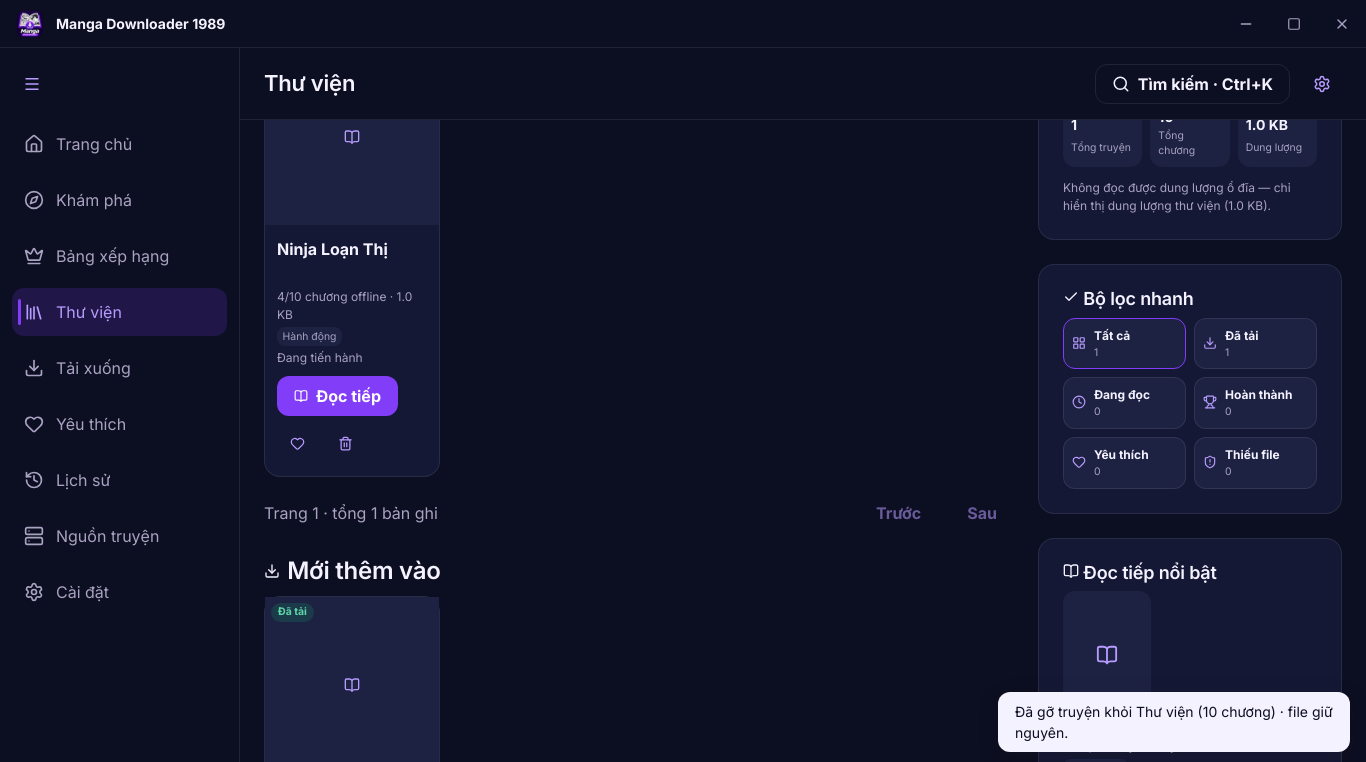
Test case: Xóa truyện khỏi Thư viện — hai chế độ file › chọn xóa file thì gửi deleteFiles=true và không còn hứa giữ file
The width and height of the screenshot is (1366, 762).
(page scrolled)
Click the button named "Xóa Ninja Loạn Thị khỏi Thư viện".
click(345, 444)  # box left=325, top=424, right=365, bottom=464
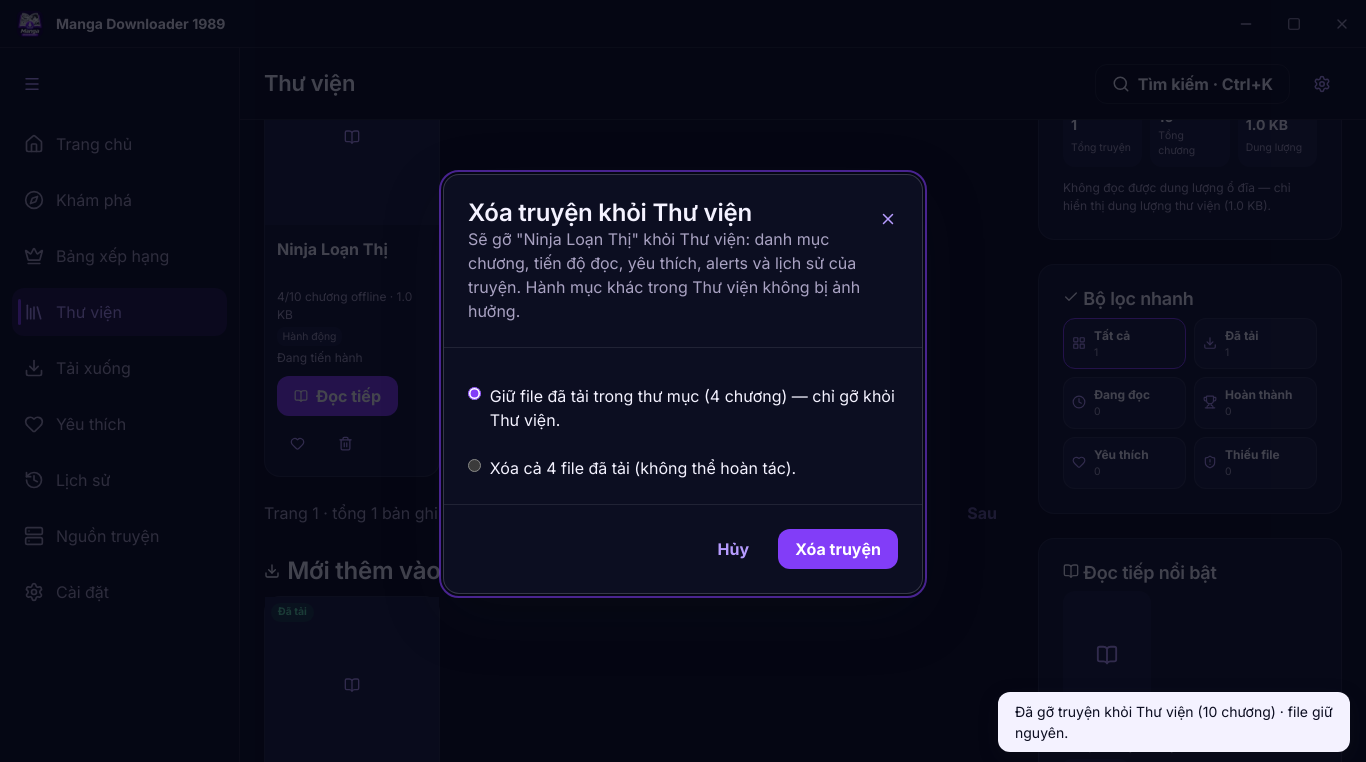
Click the radio button labelled "Xóa cả 4 file đã tải (không thể hoàn tác).".
click(474, 466)  # box left=468, top=459, right=481, bottom=472
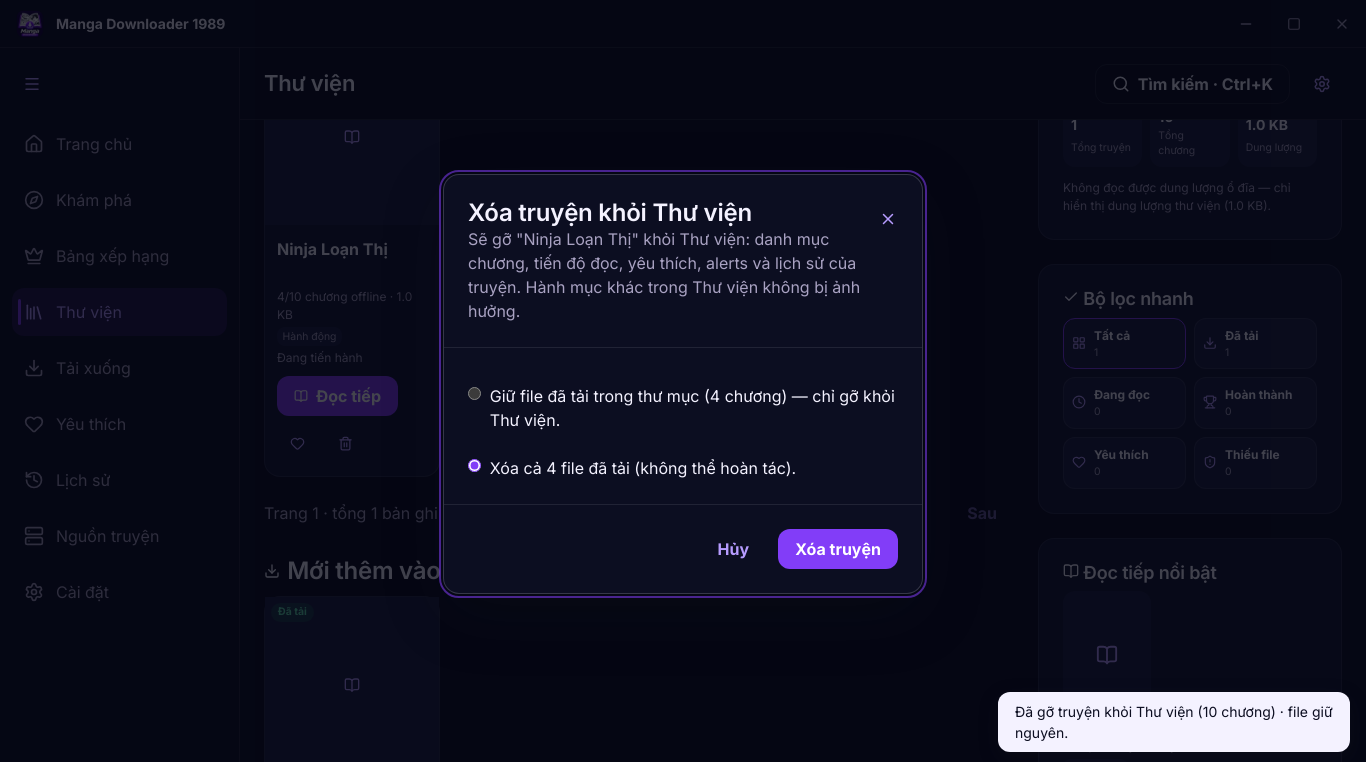
Expected: the radio button labelled "Xóa cả 4 file đã tải (không thể hoàn tác)." is checked, left=468, top=459, right=481, bottom=472
Click the button "Xóa truyện".
click(838, 549)  # box left=778, top=529, right=898, bottom=569
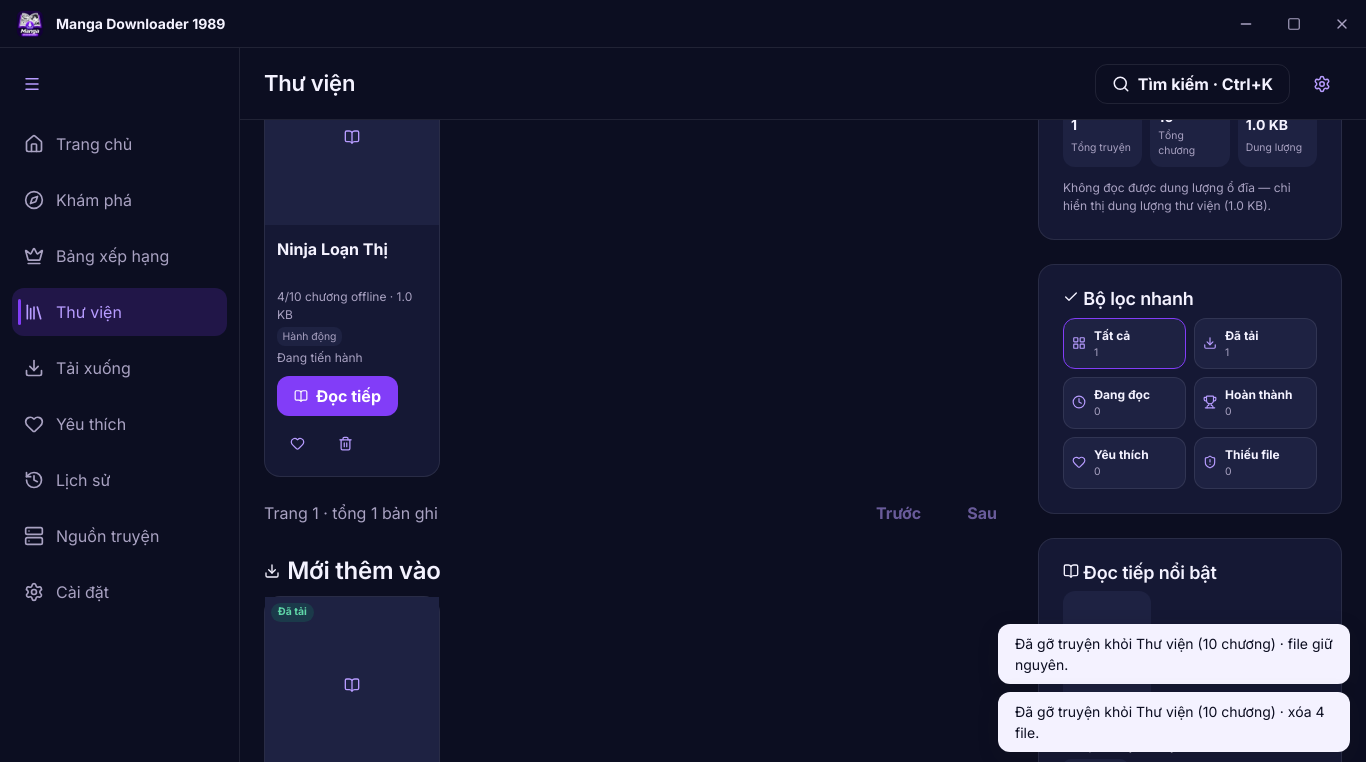
Expected: the text "Đã gỡ truyện khỏi Thư viện (10 chương) · xóa 4 file." is shown, left=998, top=692, right=1350, bottom=752
